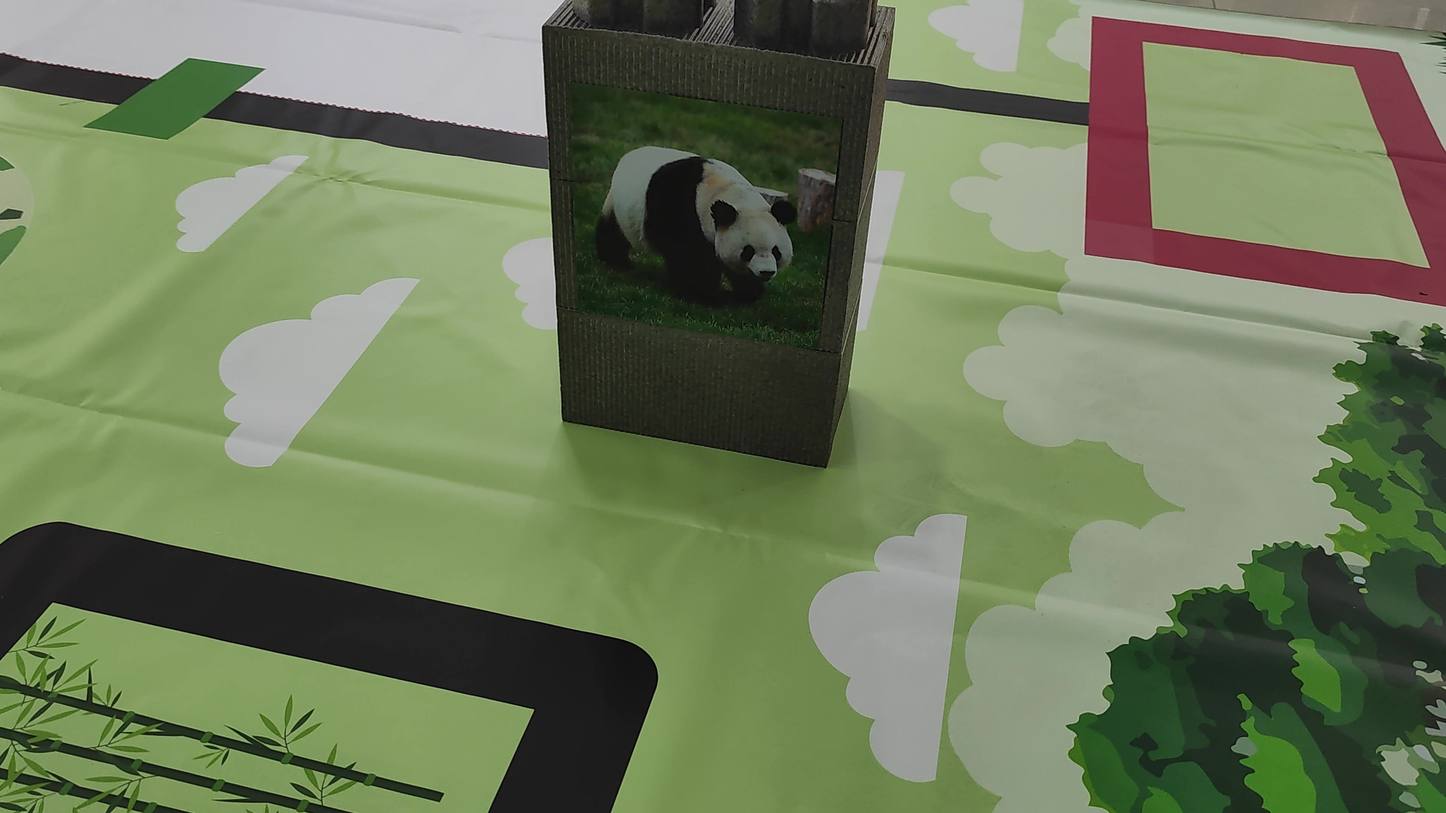panda: (557, 85, 813, 335)
